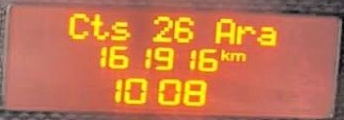0: (122, 76, 147, 104), (155, 78, 180, 105)
1: (98, 43, 106, 68), (113, 76, 120, 104), (187, 47, 195, 69), (144, 46, 151, 68)
2: (153, 14, 172, 42)
6: (172, 14, 193, 43), (107, 43, 128, 68), (197, 48, 217, 72)
8: (182, 78, 204, 105)
9: (153, 45, 174, 70)
X: (213, 17, 234, 44), (67, 12, 87, 39), (90, 12, 109, 40), (108, 17, 129, 41), (234, 23, 255, 44), (256, 25, 276, 46), (229, 50, 244, 61), (218, 47, 229, 61)
